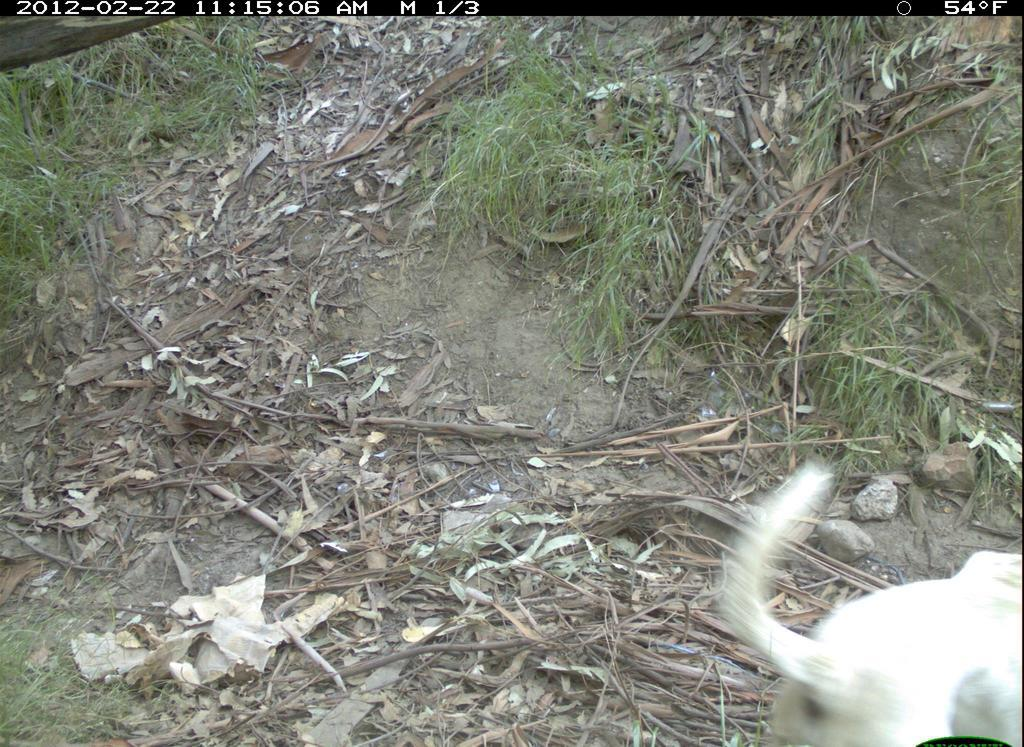dog: (697, 460, 1024, 747)
